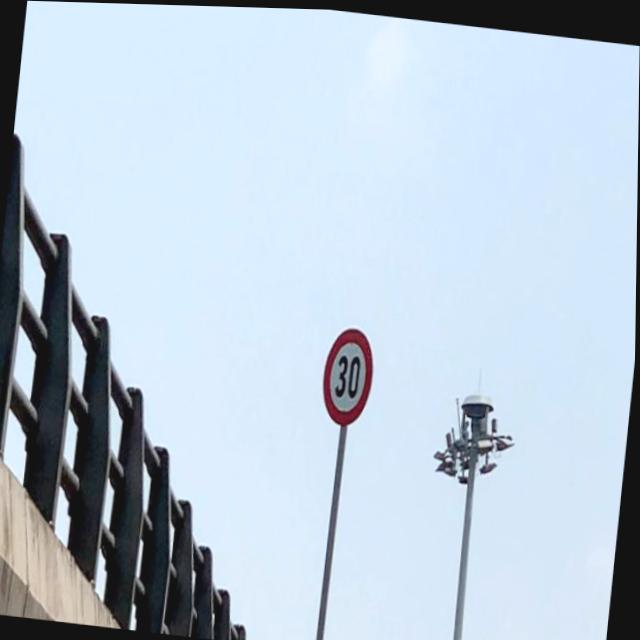Toc do toi da cho phep: (319, 321, 378, 426)
